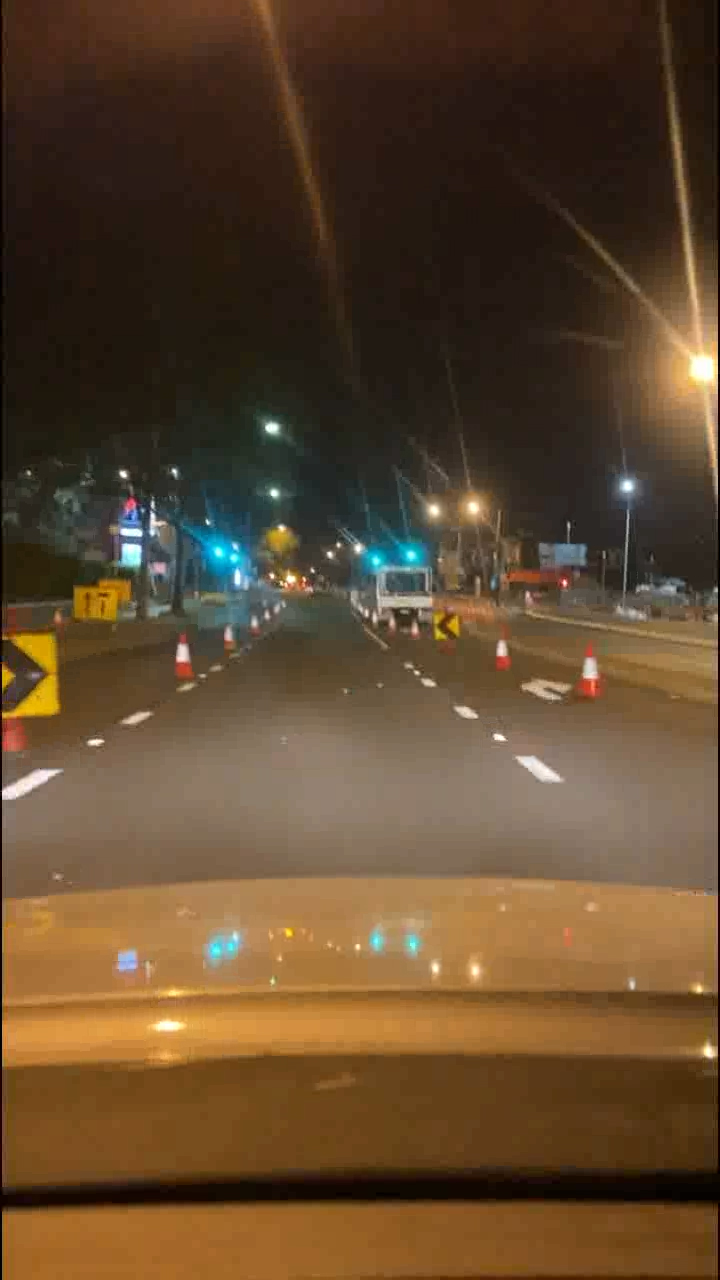road cone: (243, 597, 272, 638), (168, 632, 191, 682), (216, 613, 239, 663), (576, 646, 599, 696), (488, 619, 511, 669)
road works sign board: (1, 633, 60, 717), (75, 584, 120, 623), (435, 605, 464, 640)
truck: (356, 557, 443, 628)
